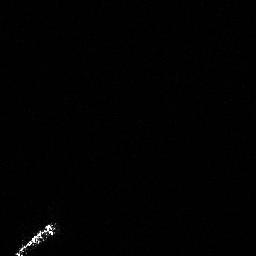ship: (10, 220, 58, 256)
